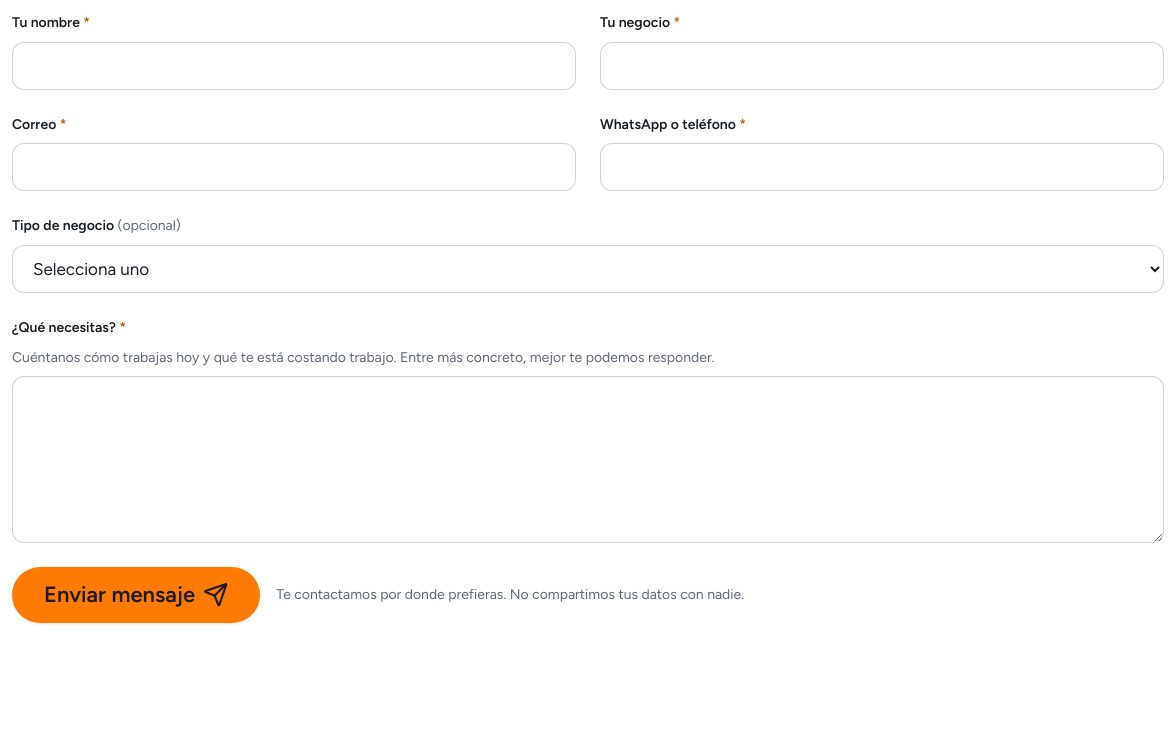
Test: ContactForm › posts to the API and confirms when it succeeds
Step 1. Type "Juan Gutiérrez" into the field labelled "Tu nombre *" → point(294, 66), box [12,42,576,90]
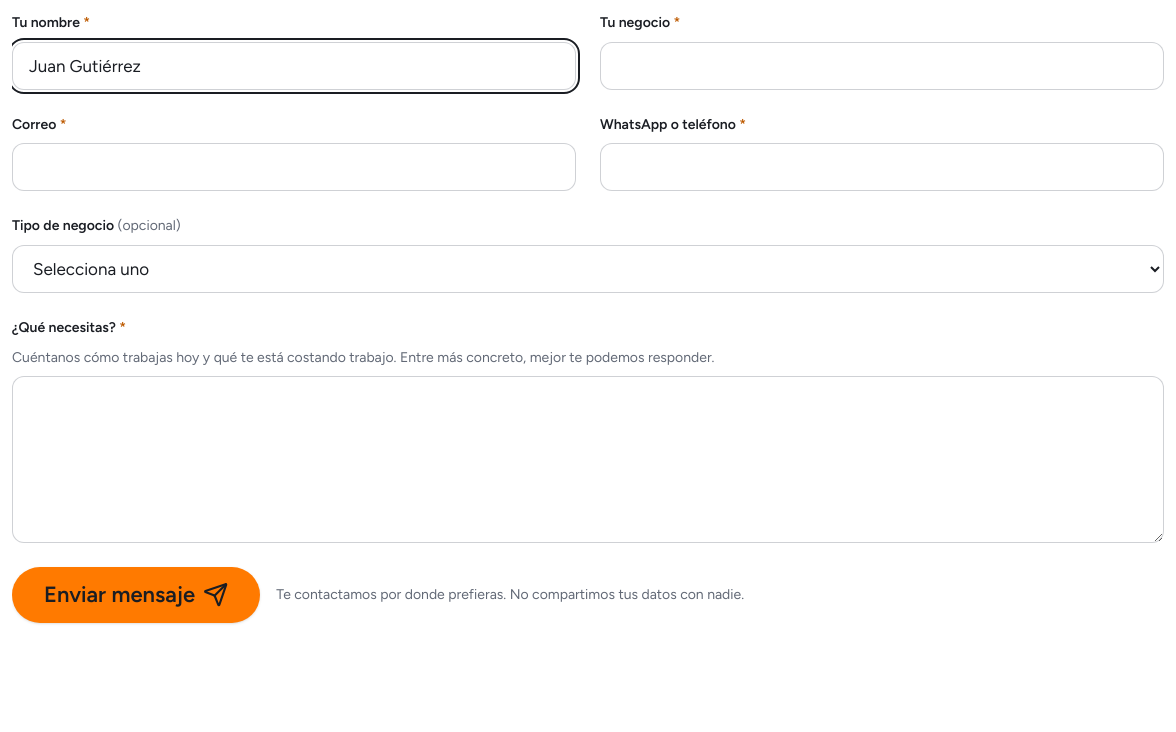
Step 2. Type "Ferretería El Tornillo" into the field labelled "Tu negocio *" → point(882, 66), box [600,42,1164,90]
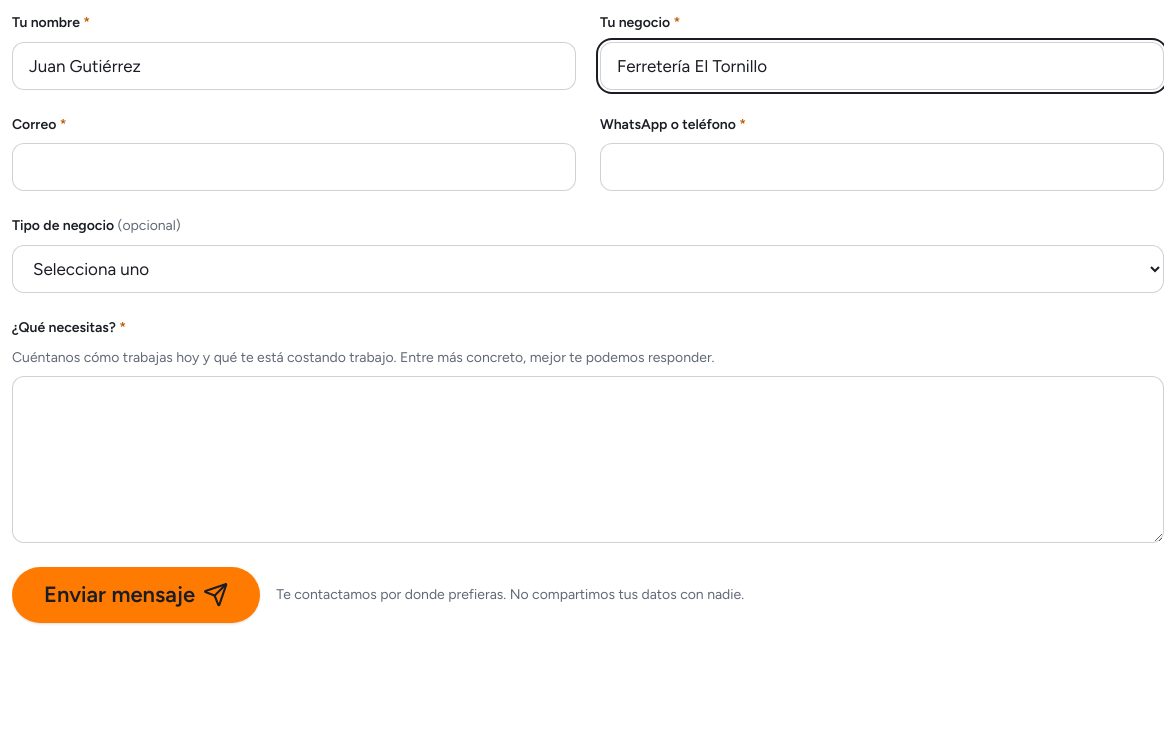
Step 3. Type "juan@ejemplo.co" into the field labelled "Correo *" → point(294, 167), box [12,143,576,191]
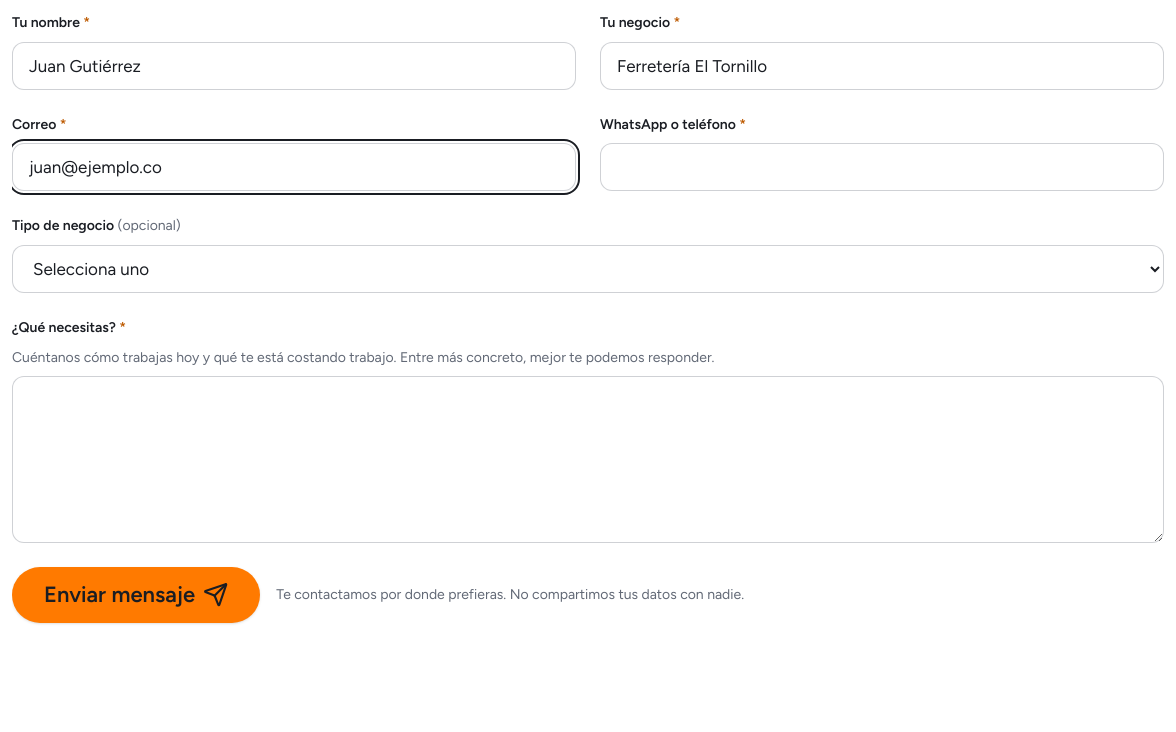
Step 4. Type "3001234567" into the field labelled "WhatsApp o teléfono *" → point(882, 167), box [600,143,1164,191]
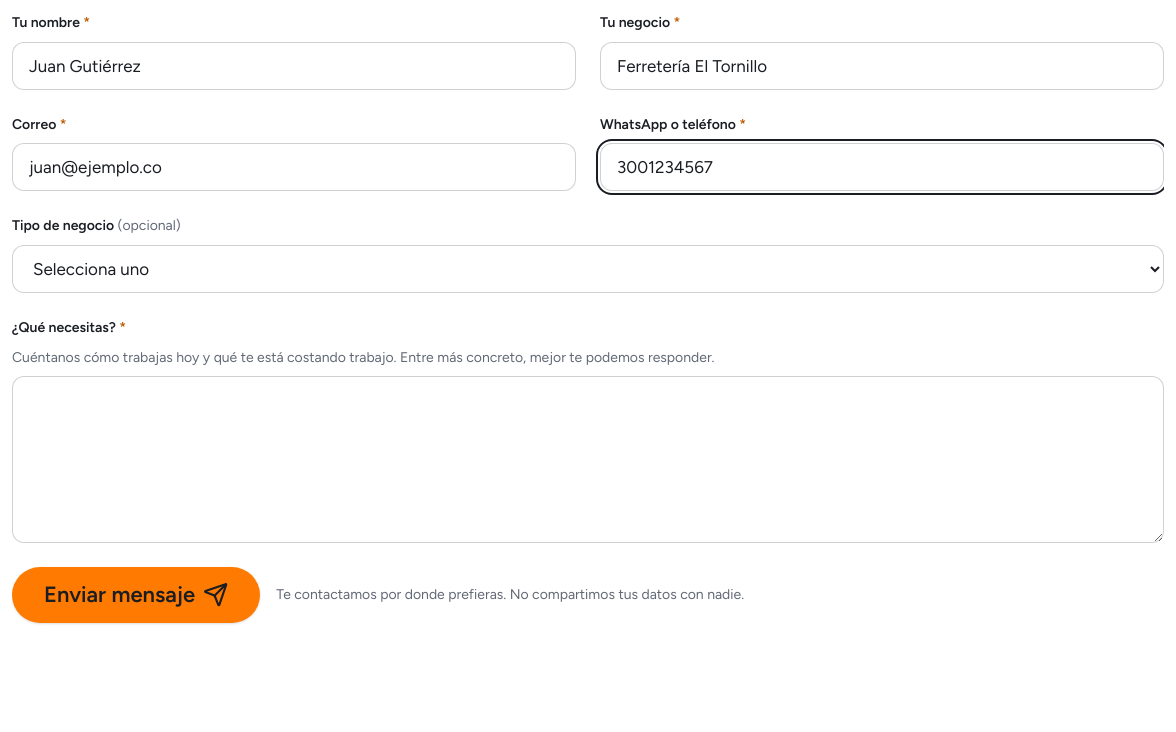
Step 5. Type "Vendo por unidad y por bulto y ningún sistema me cuadra eso." into the text box labelled "¿Qué necesitas? *" → point(588, 460), box [12,376,1164,543]
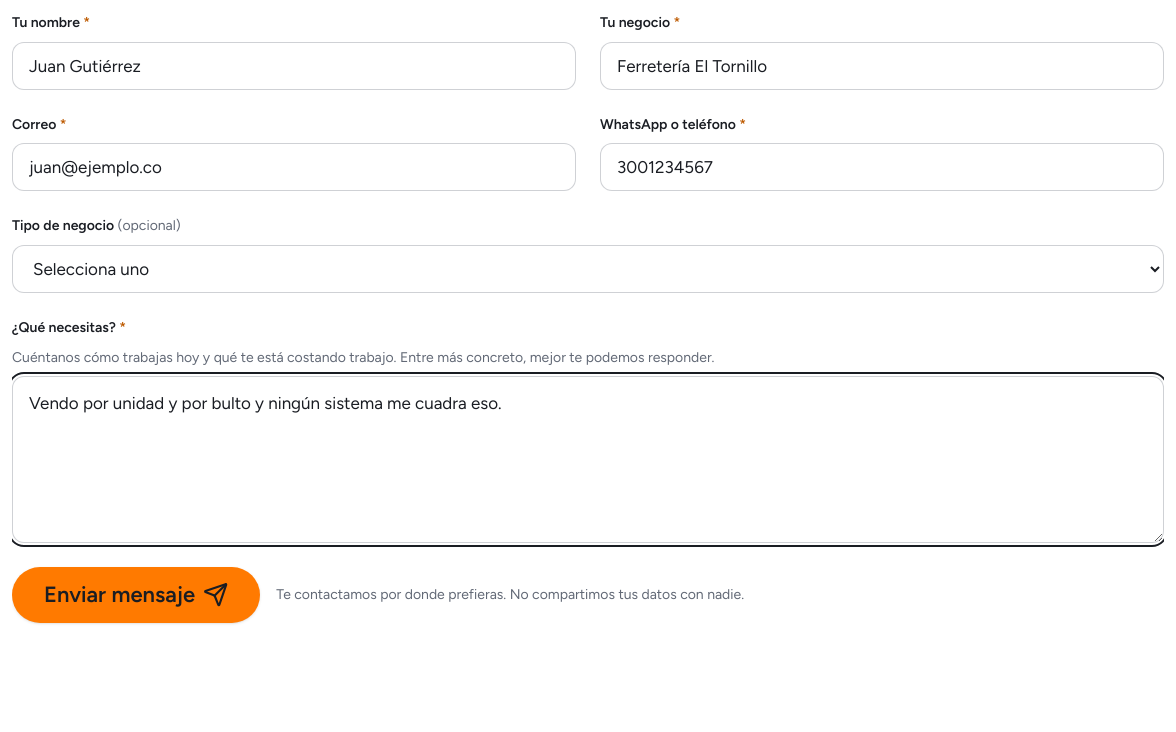
Step 6. Click the button "Enviar mensaje" → point(136, 595), box [12,567,260,623]
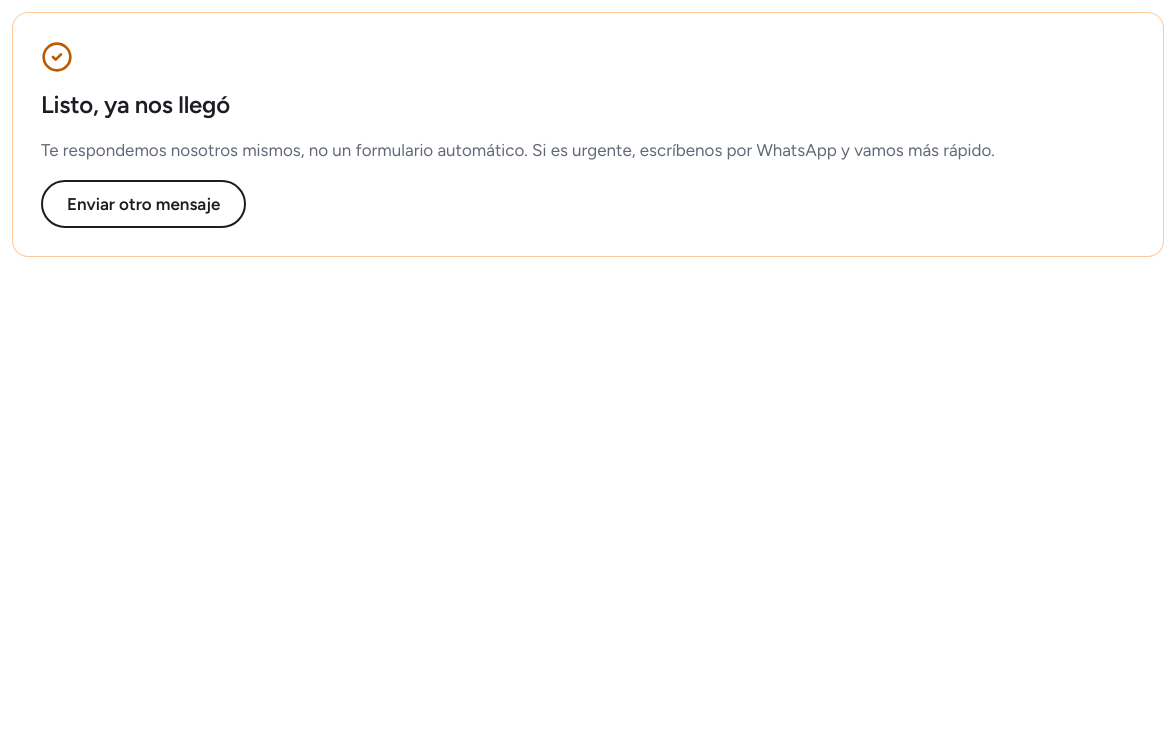
Check: the heading "Listo, ya nos llegó" is shown, box [41,89,230,120]
